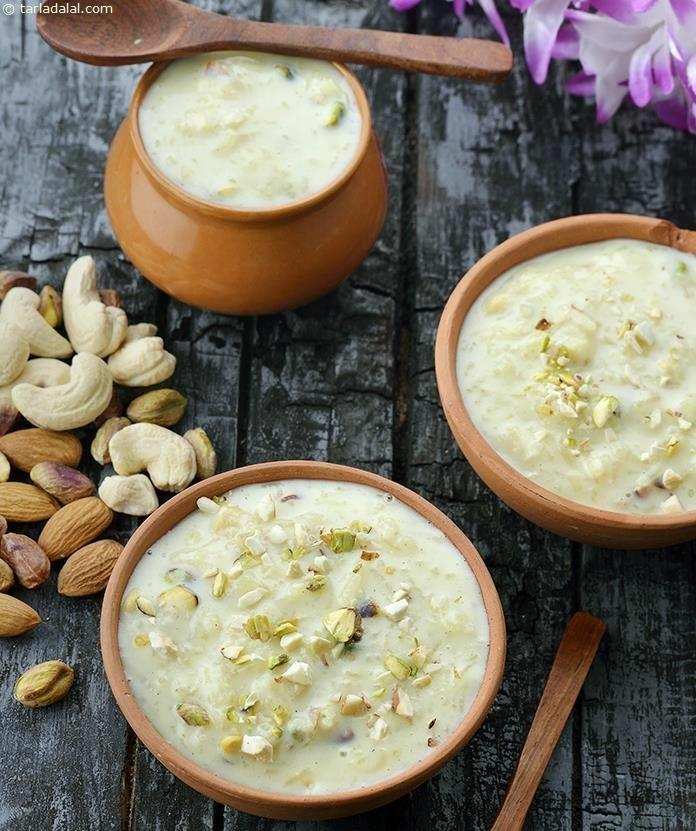Kheer: (118, 480, 487, 797), (453, 235, 696, 524), (136, 45, 363, 214)
